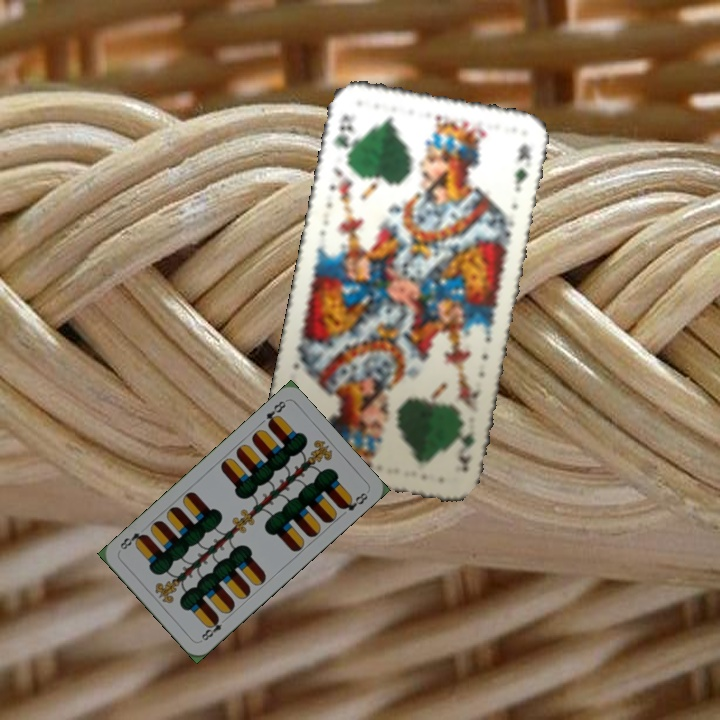E8: (196, 613, 225, 644), (262, 397, 289, 430)
GK: (451, 420, 477, 474), (329, 111, 357, 160)
